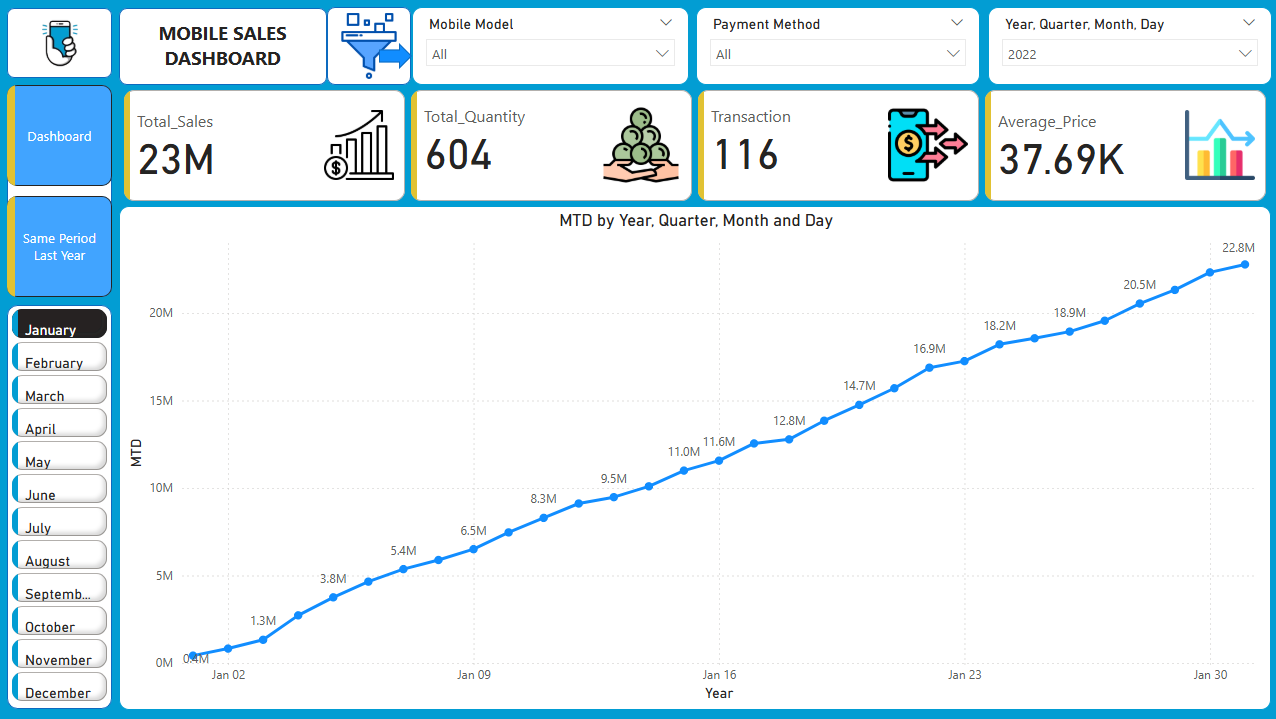

The page's visual inventory and layout, read from the dashboard file:
{"tool":"powerbi","page":{"name":"MTD Report","canvas":[1280,720],"ordinal":1},"visuals":[{"type":"shape","box":[8.2,8.2,104.5,70],"z":0},{"type":"image","box":[8.2,8.2,104.5,70],"z":1000},{"type":"shape","box":[7.7,84.9,105.2,212.4],"z":2000},{"type":"shape","box":[8.2,304.5,104.5,404.5],"z":3000},{"type":"cardVisual","fields":{"Data":["Sales_Data.Total_Sales","Sales_Data.Total_Quantity","Sales_Data.Transaction","Sales_Data.Average_Price"]},"box":[120,85,1153,121],"z":4000},{"type":"slicer","fields":{"Values":["Sales_Data.Mobile Model"]},"box":[413,7,277,78],"z":5000},{"type":"slicer","fields":{"Values":["Sales_Data.Payment Method"]},"box":[697,7,284,78],"z":6000},{"type":"slicer","fields":{"Values":["Custom_Calendar.Date.Variation.Date Hierarchy.Year","Custom_Calendar.Date.Variation.Date Hierarchy.Quarter","Custom_Calendar.Date.Variation.Date Hierarchy.Month","Custom_Calendar.Date.Variation.Date Hierarchy.Day"]},"box":[989,7,284,78],"z":7000},{"type":"shape","box":[328,7,84,78],"z":8000},{"type":"image","box":[328,7,84,78],"z":9000},{"type":"shape","box":[380,43,33,26],"z":10000},{"type":"shape","box":[120,8,208,77],"z":11000},{"type":"textbox","box":[126,15,195,63],"z":12000},{"type":"lineChart","fields":{"Y":["Sales_Data.MTD"],"Category":["Custom_Calendar.Date.Variation.Date Hierarchy.Year","Custom_Calendar.Date.Variation.Date Hierarchy.Quarter","Custom_Calendar.Date.Variation.Date Hierarchy.Month","Custom_Calendar.Date.Variation.Date Hierarchy.Day"]},"box":[119.7,205.6,1152.6,503.9],"z":13000},{"type":"advancedSlicerVisual","fields":{"Values":["Custom_Calendar.Date.Variation.Date Hierarchy.Month"]},"box":[7.7,304.1,105.2,405.4],"z":14000},{"type":"pageNavigator","box":[7.7,84.9,105.2,212.4],"z":14001}]}

Visuals, with their boxes in screenshot pixels (x1, y1, x2, y2), scaled from the page's 1280x720 canvas onto the 1276x719 screenshot:
shape: region(8, 8, 112, 78)
image: region(8, 8, 112, 78)
shape: region(8, 85, 113, 297)
shape: region(8, 304, 112, 708)
cardVisual - Sales_Data.Total_Sales x Sales_Data.Total_Quantity: region(120, 85, 1269, 206)
slicer - Sales_Data.Mobile Model: region(412, 7, 688, 85)
slicer - Sales_Data.Payment Method: region(695, 7, 978, 85)
slicer - Custom_Calendar.Date.Variation.Date Hierarchy.Year x Custom_Calendar.Date.Variation.Date Hierarchy.Quarter: region(986, 7, 1269, 85)
shape: region(327, 7, 411, 85)
image: region(327, 7, 411, 85)
shape: region(379, 43, 412, 69)
shape: region(120, 8, 327, 85)
textbox: region(126, 15, 320, 78)
lineChart - Sales_Data.MTD x Custom_Calendar.Date.Variation.Date Hierarchy.Year: region(119, 205, 1268, 709)
advancedSlicerVisual - Custom_Calendar.Date.Variation.Date Hierarchy.Month: region(8, 304, 113, 709)
pageNavigator: region(8, 85, 113, 297)
